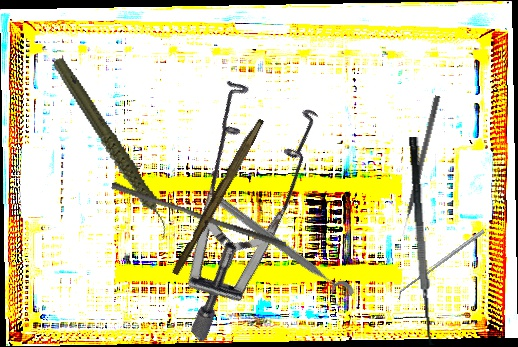Fixation Ring: (208, 193, 357, 311)
Handpiece: (49, 41, 173, 256)
Pusher: (108, 181, 290, 249), (398, 94, 441, 238)
Scalpel Handle: (170, 115, 265, 278)
Spatula Surgical: (408, 135, 447, 347), (394, 229, 488, 300)
Speculum: (82, 49, 384, 345)
